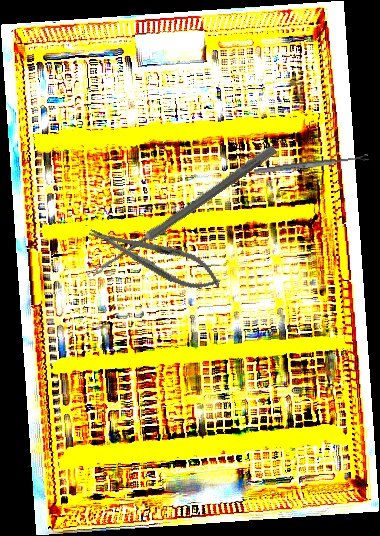Needle Holder: (83, 215, 227, 299)
Surgical Spoon: (89, 143, 278, 280), (254, 154, 369, 175)
